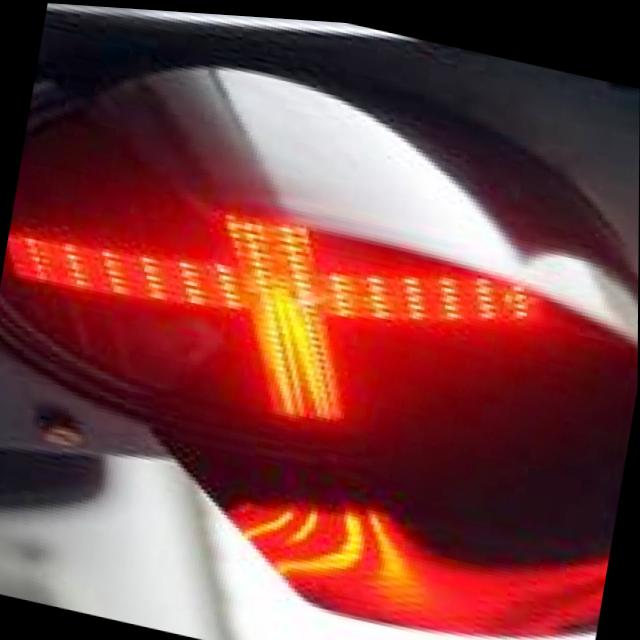red_light: (14, 59, 589, 588)
